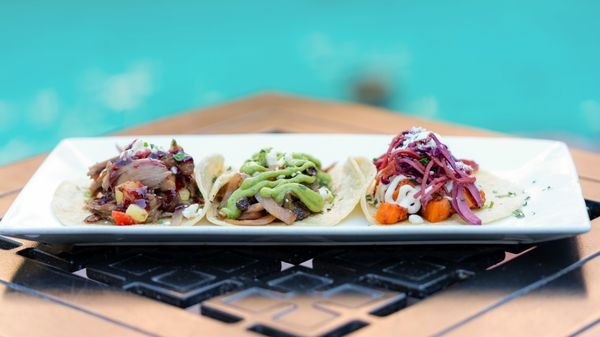curry: (1, 89, 598, 332)
